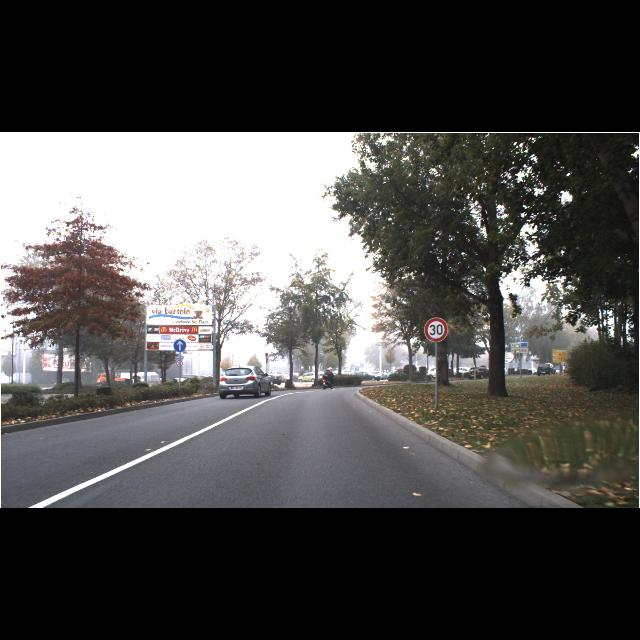mandatory: (172, 338, 185, 352)
prohibitory: (424, 318, 448, 342)
